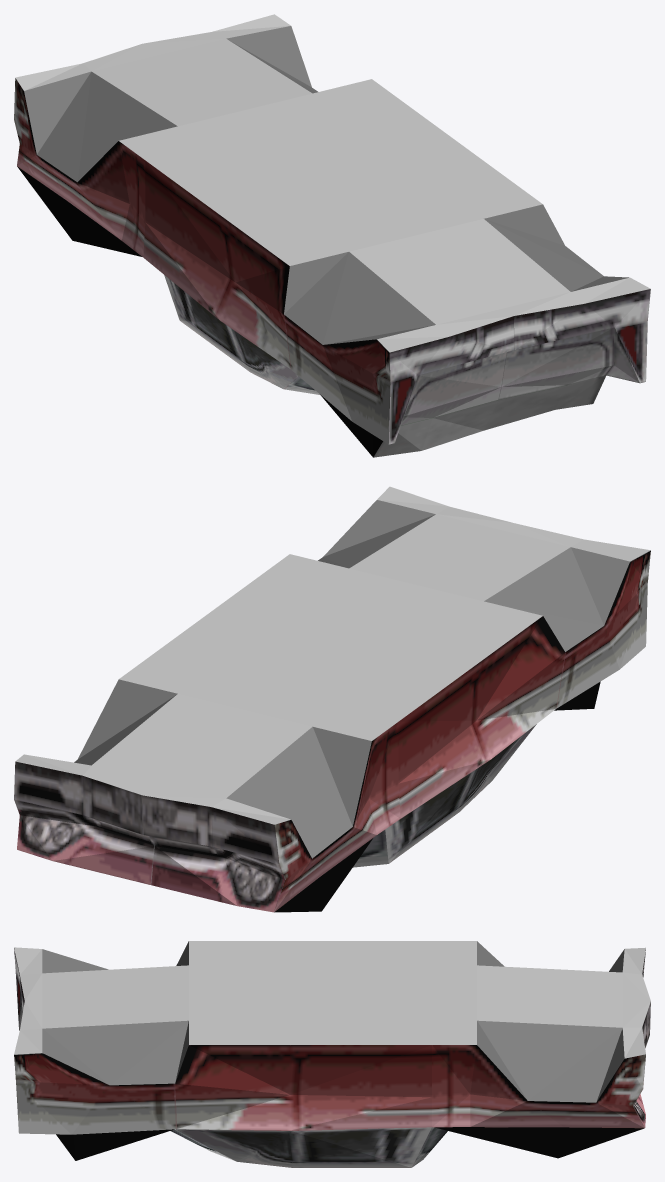
Rendered from HAVANA_model1_damaged.obj.
3 views of the same model, one above another, from view 1: azimuth 30°, elevation 25°; view 2: azimuth 150°, elevation 25°; view 3: azimuth 270°, elevation 25° (orthographic). The views are drawn at different scales.
Visible parts, largest first — view 1: HAVANA_model1_damaged; view 2: HAVANA_model1_damaged; view 3: HAVANA_model1_damaged.
Part boxes in pixels (x1=…): HAVANA_model1_damaged: x1=14, y1=14, x2=650, y2=457; HAVANA_model1_damaged: x1=14, y1=486, x2=650, y2=912; HAVANA_model1_damaged: x1=14, y1=941, x2=650, y2=1167.
Bounding box in the file's own units: 280 × 157 × 652.
